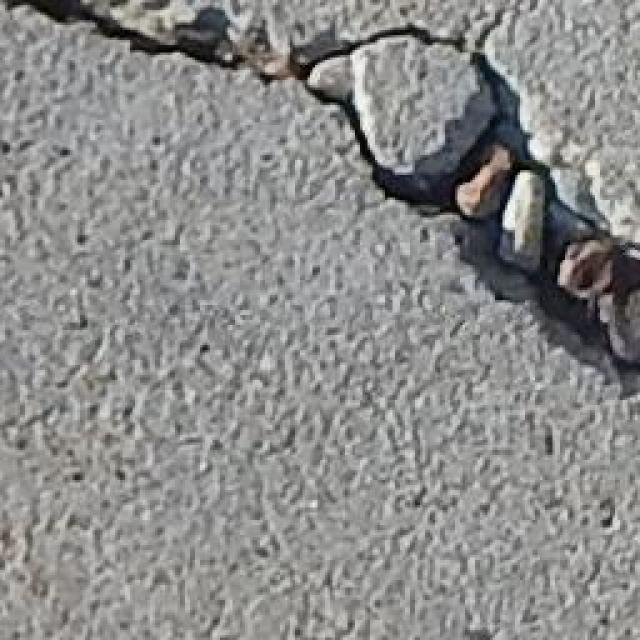concrete-crack: (0, 0, 640, 422)
